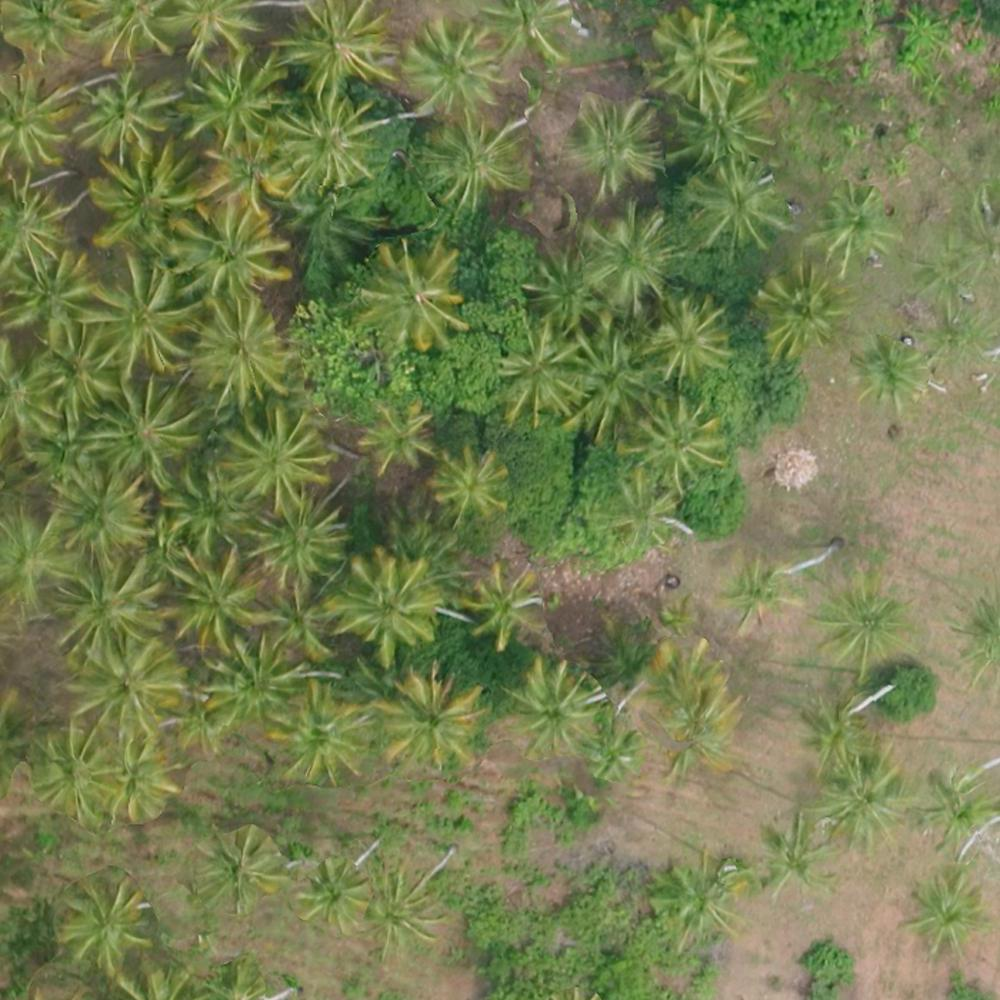Palm: (165, 198, 283, 298), (357, 247, 464, 350), (84, 258, 184, 366), (270, 686, 372, 791), (70, 638, 182, 733), (281, 1, 395, 94), (221, 404, 322, 508), (62, 557, 163, 660), (187, 301, 288, 402), (336, 556, 437, 657), (88, 147, 188, 249), (650, 12, 754, 109), (277, 97, 379, 195), (165, 548, 262, 645), (50, 465, 150, 555), (687, 161, 782, 254), (757, 264, 851, 357), (400, 25, 500, 112), (580, 210, 674, 302), (186, 52, 277, 147), (250, 498, 345, 589), (104, 377, 193, 474), (562, 95, 654, 188), (819, 573, 910, 667), (425, 109, 522, 197), (563, 322, 641, 429), (27, 323, 116, 416), (381, 674, 478, 758), (499, 325, 588, 415), (60, 878, 149, 968), (636, 396, 722, 488), (512, 658, 597, 751), (208, 638, 301, 723), (78, 69, 174, 149), (194, 829, 287, 911), (32, 730, 111, 825), (364, 866, 450, 952), (825, 760, 908, 849), (11, 255, 93, 344), (666, 99, 770, 169), (102, 733, 181, 823), (902, 873, 988, 954), (481, 1, 572, 76), (819, 184, 900, 267), (466, 558, 544, 644), (249, 586, 336, 662), (646, 302, 730, 378), (1, 78, 71, 169), (199, 135, 285, 209), (715, 551, 799, 625), (917, 774, 995, 851), (163, 465, 234, 549), (1, 181, 66, 271), (751, 818, 827, 893), (430, 452, 510, 523), (604, 468, 679, 543), (297, 860, 369, 934), (526, 254, 601, 325), (360, 402, 431, 469), (861, 336, 930, 402)
